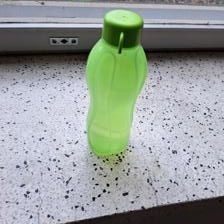bottle: (83, 7, 147, 156)
